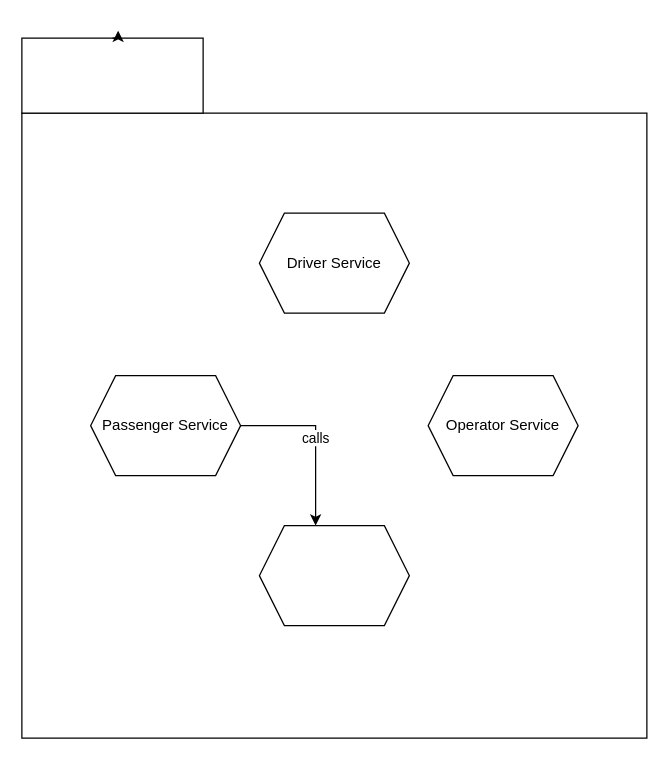
The diagram is 669 pixels wide and 760 high, and some of its shapes have lost their labels. Each missing label, with the box of its shape:
Bus Management System: (21, 37, 203, 113)
Notification Service: (258, 524, 409, 626)
